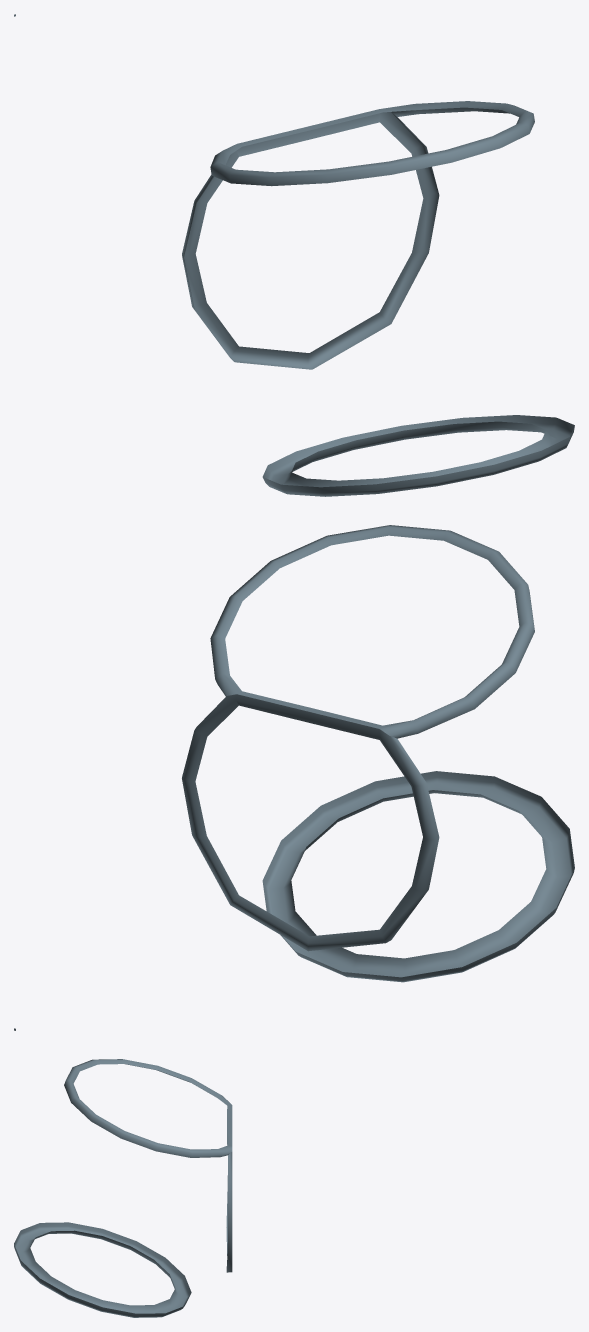
The model's file is AlarmClock_29_AlarmClock_29_0_GeomSubset_1.obj.
The picture shows the model from 3 angles, top to bottom: view 1: azimuth 30°, elevation 25°; view 2: azimuth 150°, elevation 25°; view 3: azimuth 270°, elevation 25°; orthographic projection. The views are drawn at different scales.
Visible parts, largest first — view 1: AlarmClock_29_AlarmClock_29_0_GeomSubset_1; view 2: AlarmClock_29_AlarmClock_29_0_GeomSubset_1; view 3: AlarmClock_29_AlarmClock_29_0_GeomSubset_1.
Boxes of the visible parts, left/top/right/bottom form: AlarmClock_29_AlarmClock_29_0_GeomSubset_1: left=14, top=14, right=574, bottom=496; AlarmClock_29_AlarmClock_29_0_GeomSubset_1: left=14, top=525, right=574, bottom=1030; AlarmClock_29_AlarmClock_29_0_GeomSubset_1: left=14, top=1059, right=232, bottom=1317.
Bounding box in the file's own units: 0.1403 × 0.1749 × 0.4092.
